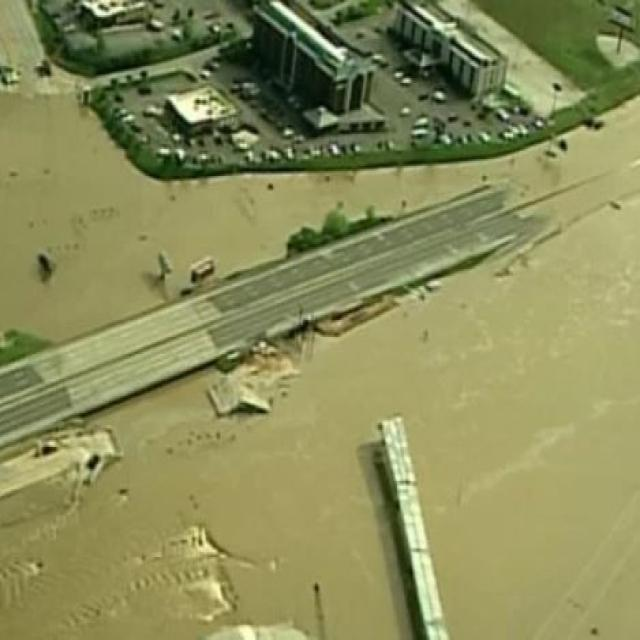flooded_areas: (6, 83, 614, 637)
